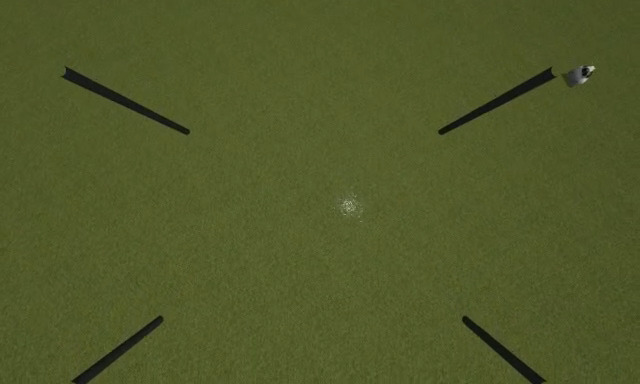Car: (568, 65, 595, 87)
